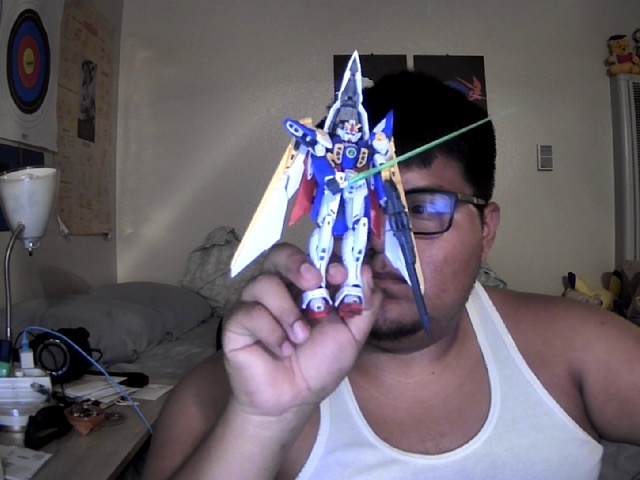Wing-01: (229, 48, 516, 340)
